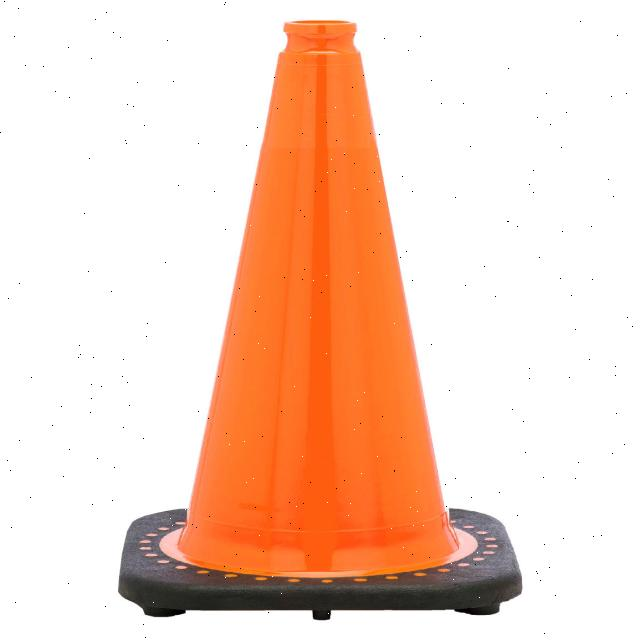traffic cone: (107, 10, 533, 634)
